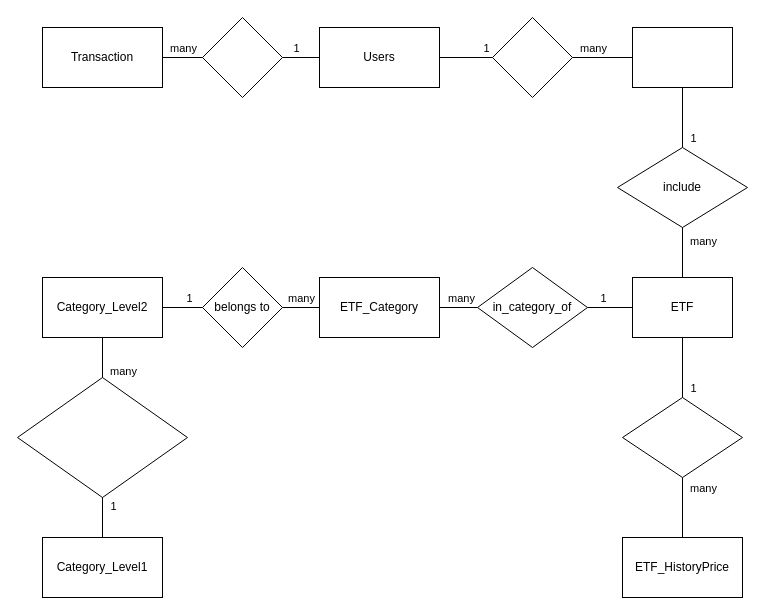
The diagram is 765 pixels wide and 615 high, and some of its shapes have lost their labels. Each missing label, with the centre of its shape:
"HAS_HISTORY" belongs at (x=682, y=437).
"initiates" belongs at (x=242, y=57).
"IS_SUBCATEGORY_OF" belongs at (x=102, y=437).
"owns" belongs at (x=532, y=57).
"Portfolio" belongs at (x=682, y=57).
